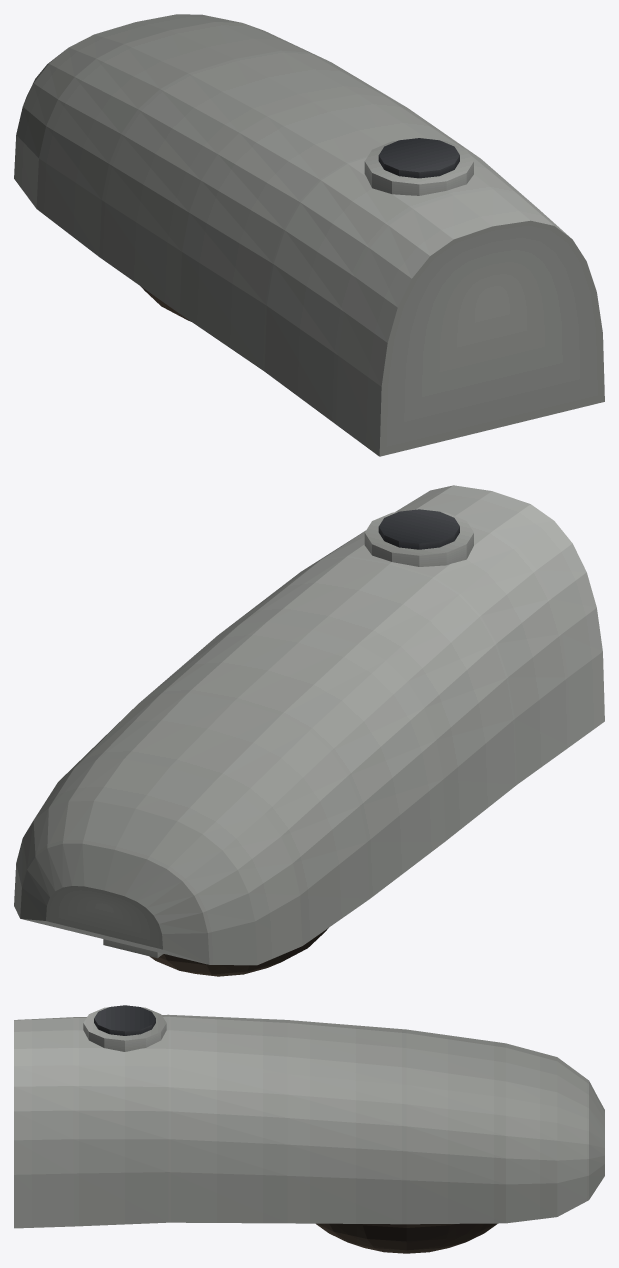
The model's file is streetlight_gem240r1np.obj.
3 renders of one model, top to bottom at view 1: azimuth 30°, elevation 25°; view 2: azimuth 150°, elevation 25°; view 3: azimuth 270°, elevation 25°, orthographic. The views are drawn at different scales.
Visible parts, largest first — view 1: fixture; view 2: fixture; view 3: fixture.
Part boxes in pixels (x1=…): fixture: x1=14, y1=14, x2=604, y2=456; fixture: x1=14, y1=485, x2=604, y2=976; fixture: x1=14, y1=1005, x2=604, y2=1253.
Size of the model in its own units: 0.375 by 0.3925 by 0.9312.
